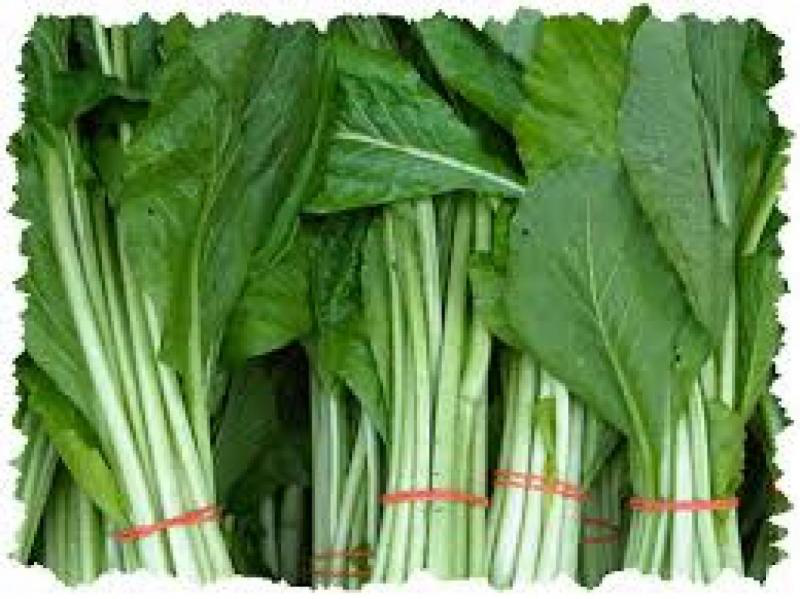Sawi: (26, 54, 274, 517)
